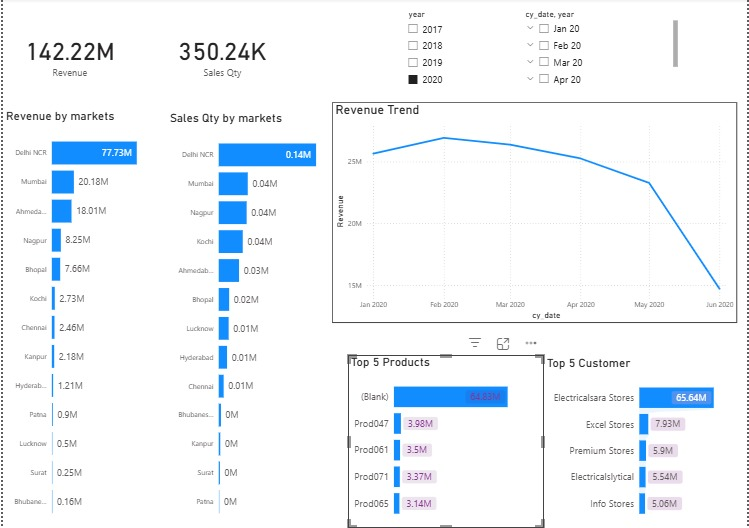

This screenshot's page, from the dashboard's own definition file:
{"tool":"powerbi","page":{"name":"Page 1","canvas":[1280,912],"ordinal":0},"visuals":[{"type":"card","fields":{"Values":["BaseMeasures.Revenue"]},"box":[0,0,230.6,194.4],"z":0},{"type":"card","fields":{"Values":["BaseMeasures.Sales Qty"]},"box":[258.1,0,239.2,194.4],"z":1000},{"type":"barChart","title":"Revenue by markets","fields":{"Y":["BaseMeasures.Revenue"],"Category":["sales markets.markets_name"]},"box":[0,191,282.2,721],"z":2000},{"type":"barChart","title":"Sales Qty by markets","fields":{"Y":["BaseMeasures.Sales Qty"],"Category":["sales markets.markets_name"]},"box":[282.2,194.4,304.6,717.6],"z":3000},{"type":"slicer","fields":{"Values":["sales date.year"]},"box":[684.9,15.5,105,146.3],"z":4000},{"type":"slicer","fields":{"Values":["sales date.cy_date","sales date.year"]},"box":[886.2,15.5,280.5,146.3],"z":5000},{"type":"barChart","title":"Top 5 Customer","fields":{"Y":["BaseMeasures.Revenue"],"Category":["sales customers.custmer_name"]},"box":[930.9,616,349.3,296],"z":6000},{"type":"barChart","title":"Top 5 Products","fields":{"Y":["BaseMeasures.Revenue"],"Category":["sales products.product_code"]},"box":[593.7,614.3,337.3,297.7],"z":7000},{"type":"lineChart","title":"Revenue Trend","fields":{"Category":["sales date.cy_date"],"Y":["BaseMeasures.Revenue"]},"box":[566.1,179,696.9,380.3],"z":7001}]}

Visuals, with their boxes in screenshot pixels (x1, y1, x2, y2), scaled from the page's 1280x912 canvas onto the 749x528 screenshot:
card - BaseMeasures.Revenue: 0,0,135,113
card - BaseMeasures.Sales Qty: 151,0,291,113
"Revenue by markets" barChart: 0,111,165,527
"Sales Qty by markets" barChart: 165,113,343,527
slicer - sales date.year: 401,9,462,94
slicer - sales date.cy_date x sales date.year: 519,9,683,94
"Top 5 Customer" barChart: 545,357,748,527
"Top 5 Products" barChart: 347,356,545,527
"Revenue Trend" lineChart: 331,104,739,324
